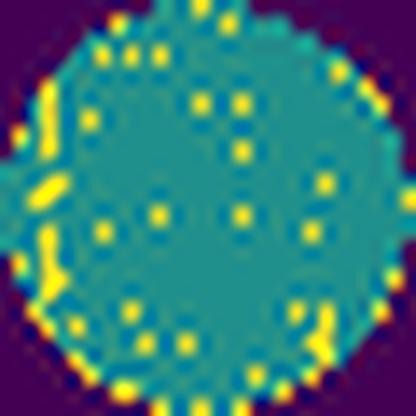Scratch: (28, 222, 75, 312), (35, 76, 64, 166), (22, 167, 76, 214)
